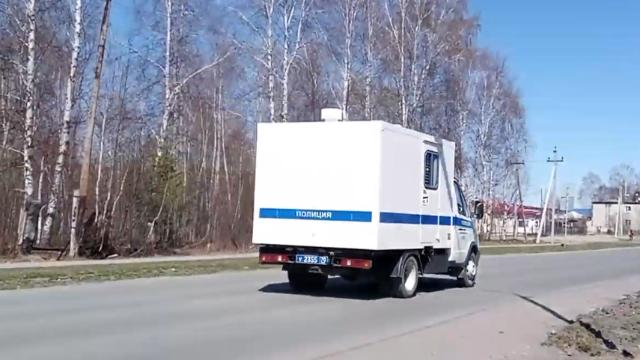police car: (252, 108, 482, 298)
